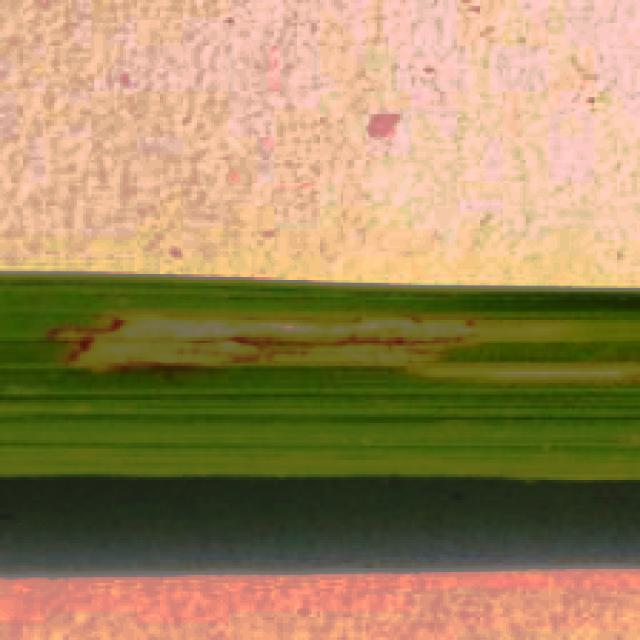unhealth: (0, 288, 640, 477)
